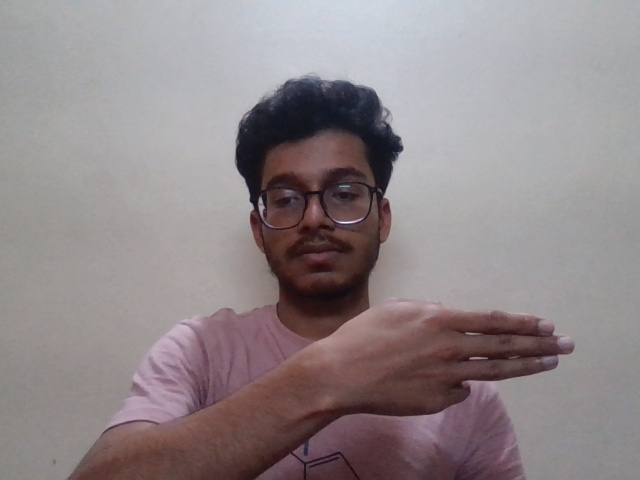wednesday: (296, 297, 591, 425)
